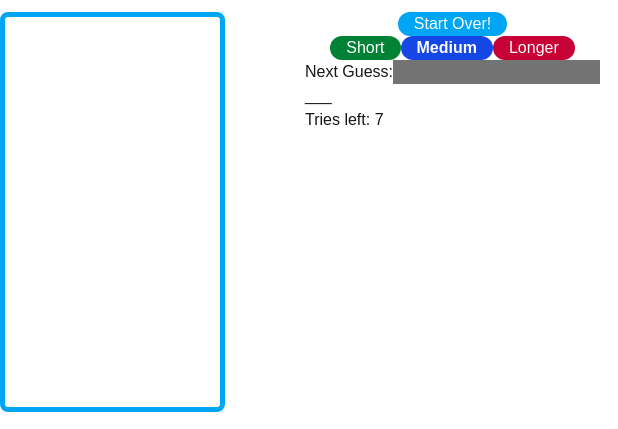
Scenario: SnowmanGame › resets the game when "Start Over!" is clicked
This screenshot has width=618, height=429.
Type "z" into the field labelled "Next Guess:" at x=496, y=72, box top-left (393, 60), bottom-right (600, 84)
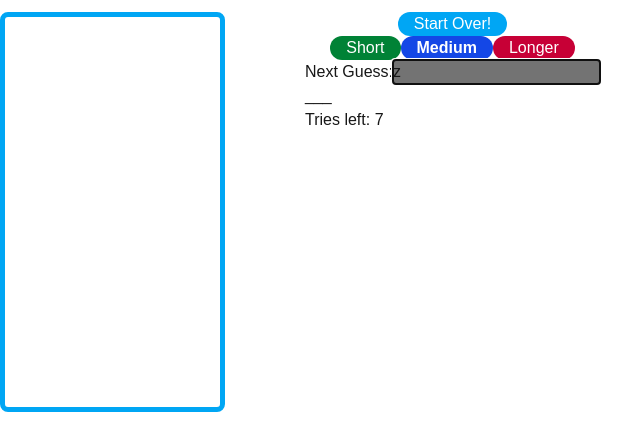
Press Enter
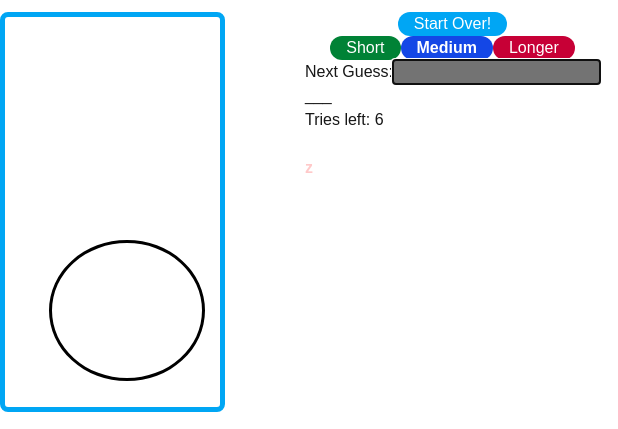
Now the text "Tries left: 6" is shown, box top-left (305, 111), bottom-right (384, 128)
Click the button "Start Over!" at x=452, y=24, box top-left (398, 12), bottom-right (507, 36)
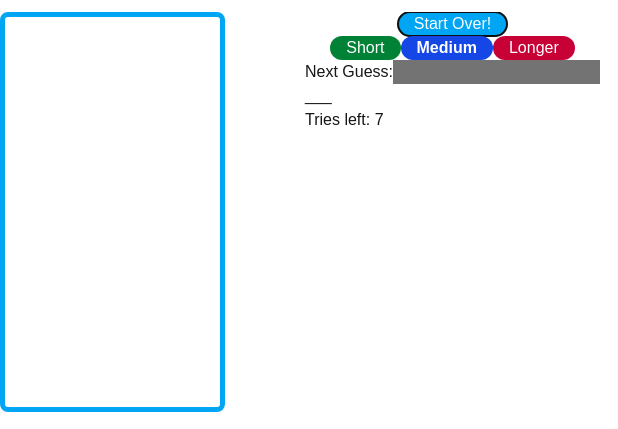
Now the text "Tries left: 7" is shown, box top-left (305, 111), bottom-right (384, 128)
